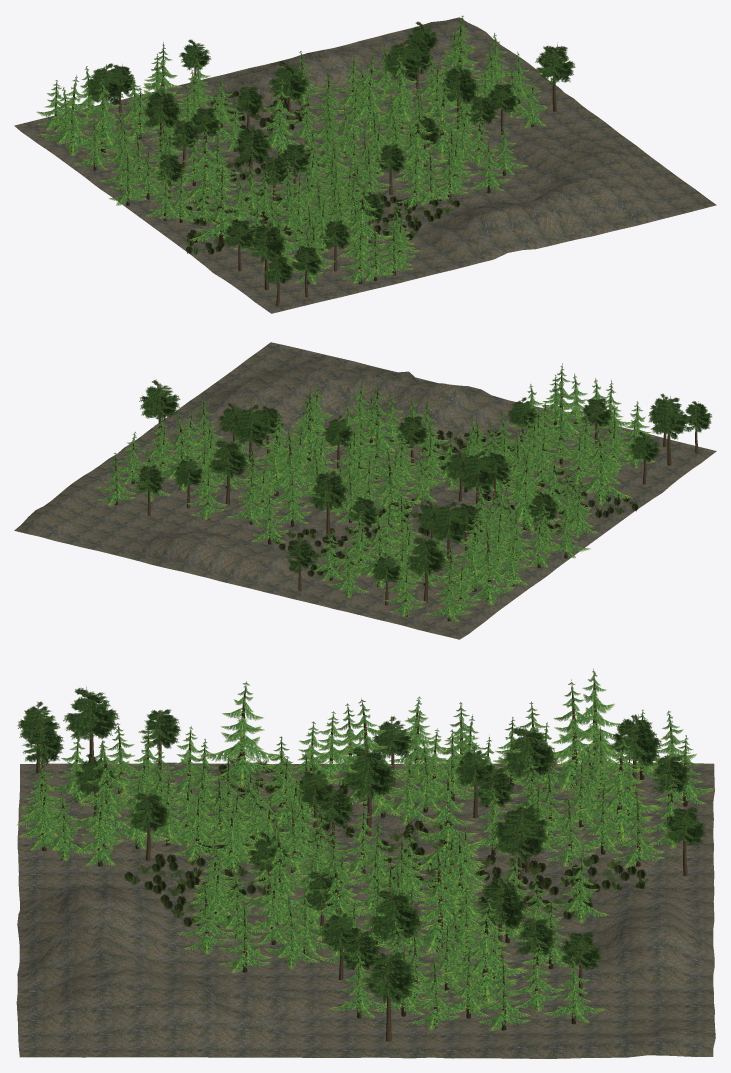
Rendered from forest.optimized.glb.
The picture shows the model from 3 angles, top to bottom: view 1: azimuth 30°, elevation 25°; view 2: azimuth 150°, elevation 25°; view 3: azimuth 270°, elevation 25°; orthographic projection. The views are drawn at different scales.
Parts seen in each view (by area): view 1: Object_2, Object_3, Object_8, Object_13, Object_11, Object_14, Object_12; view 2: Object_2, Object_3, Object_8, Object_13, Object_11, Object_14, Object_12; view 3: Object_2, Object_3, Object_8, Object_13, Object_11, Object_14, Object_12, Object_10.
Boxes of the visible parts, x1,y1,x2,y2 form: Object_2: (14,17,716,313); Object_3: (36,16,547,284); Object_8: (85,21,575,284); Object_13: (54,15,534,284); Object_11: (182,91,460,254); Object_14: (105,22,557,306); Object_12: (186,91,456,254); Object_2: (14,342,716,639); Object_3: (96,366,656,621); Object_8: (133,380,712,583); Object_13: (114,363,637,621); Object_11: (272,430,638,576); Object_14: (147,379,698,605); Object_12: (273,429,637,573); Object_2: (16,762,715,1058); Object_3: (16,671,714,1031); Object_8: (17,688,706,1003); Object_13: (39,668,687,1030); Object_11: (124,755,646,927); Object_14: (36,687,687,1041); Object_12: (127,757,648,926); Object_10: (155,769,617,913).
Size of the model in its own units: 16.73 by 2.75 by 16.22.
8 materials, 8 textured.
